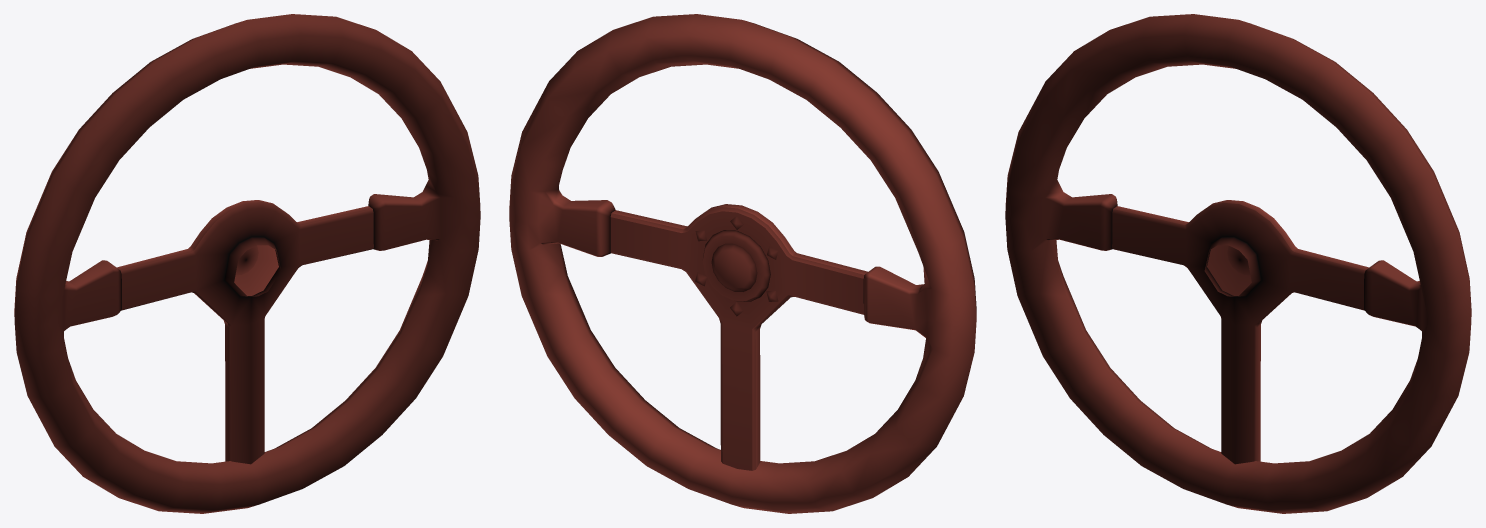
The model's file is F40_SteeringWheel_Trim.fbx.
3 renders of one model, left to right at view 1: azimuth 30°, elevation 25°; view 2: azimuth 150°, elevation 25°; view 3: azimuth 330°, elevation 25°, orthographic.
Visible parts, largest first — view 1: F40_SteeringWheel_Trim; view 2: F40_SteeringWheel_Trim; view 3: F40_SteeringWheel_Trim.
Boxes of the visible parts, left/top/right/bottom form: F40_SteeringWheel_Trim: left=14, top=14, right=480, bottom=513; F40_SteeringWheel_Trim: left=509, top=14, right=976, bottom=513; F40_SteeringWheel_Trim: left=1005, top=14, right=1471, bottom=513.
Bounding box in the file's own units: 30.67 × 30.66 × 2.81.
